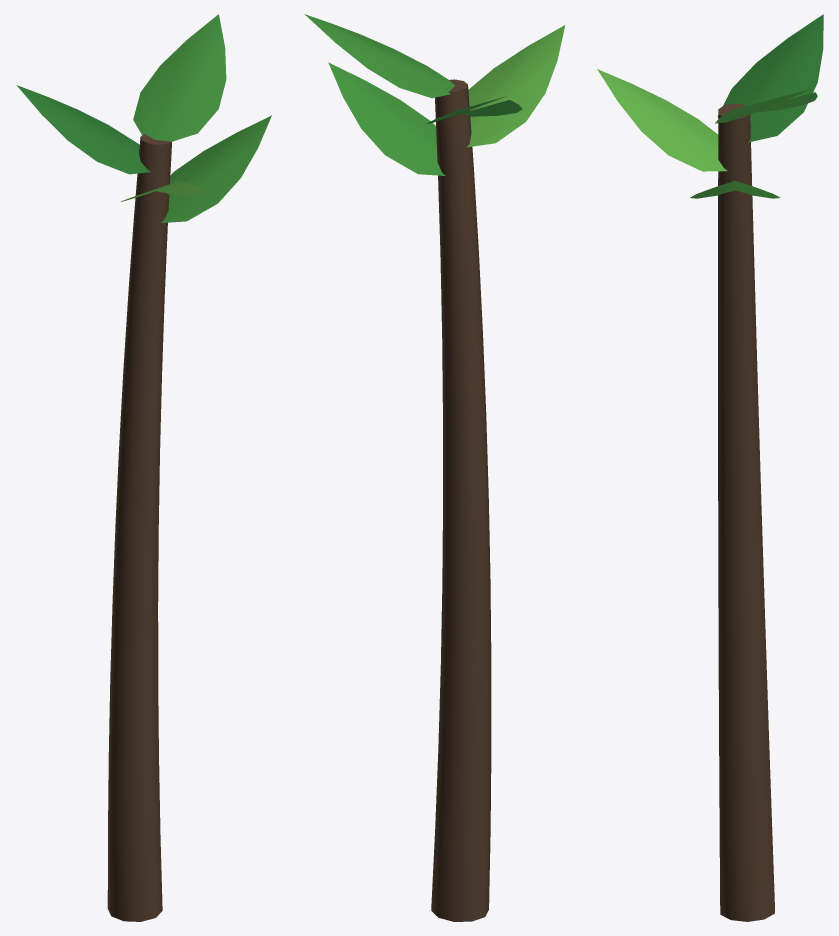
3 views of the same model, side by side, from view 1: azimuth 30°, elevation 25°; view 2: azimuth 150°, elevation 25°; view 3: azimuth 270°, elevation 25° (orthographic). The views are drawn at different scales.
Parts seen in each view (by area): view 1: body; view 2: body; view 3: body.
Boxes of the visible parts, x1,y1,x2,y2 form: body: (16, 14, 271, 921); body: (304, 14, 565, 921); body: (597, 14, 823, 921).
Bounding box in the file's own units: 0.1147 × 0.4277 × 0.101.
1 material, 1 textured.
